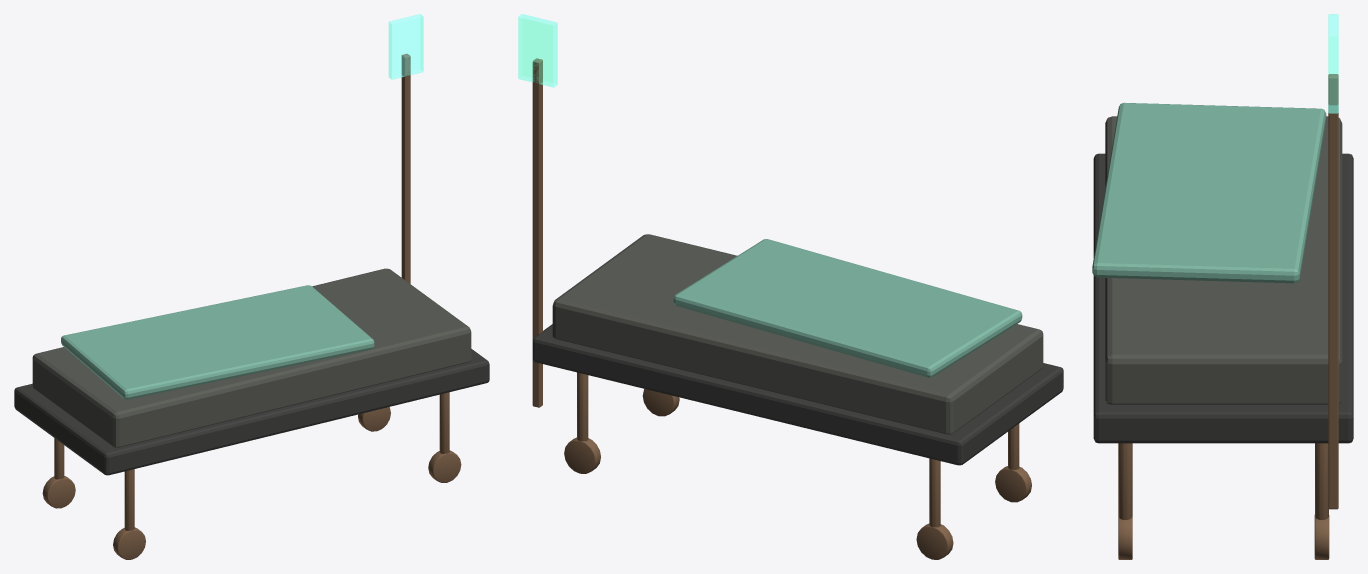
File: dz_hospital_bed_ruined_A.glb
The picture shows the model from 3 angles, left to right: view 1: azimuth 30°, elevation 25°; view 2: azimuth 150°, elevation 25°; view 3: azimuth 270°, elevation 25°; orthographic projection. The views are drawn at different scales.
Parts seen in each view (by area): view 1: dirty_mattress_sagging, torn_blanket_slump, thin_metal_bed_frame, upright_iv_pole, hanging_iv_bag, bed_wheel_-0.88_0.34, bed_wheel_-0.88_-0.34, bed_wheel_0.88_-0.34, bed_leg_-0.88_-0.34, bed_leg_0.88_-0.34, bed_wheel_0.88_0.34; view 2: dirty_mattress_sagging, torn_blanket_slump, thin_metal_bed_frame, upright_iv_pole, hanging_iv_bag, bed_wheel_-0.88_0.34, bed_wheel_-0.88_-0.34, bed_wheel_0.88_0.34, bed_leg_0.88_0.34, bed_leg_-0.88_0.34, bed_wheel_0.88_-0.34; view 3: torn_blanket_slump, dirty_mattress_sagging, thin_metal_bed_frame, upright_iv_pole, bed_leg_0.88_-0.34, hanging_iv_bag, bed_leg_0.88_0.34, bed_wheel_0.88_0.34, bed_wheel_0.88_-0.34.
Boxes of the visible parts, x1=… form: dirty_mattress_sagging: x1=32, y1=268, x2=471, y2=447; torn_blanket_slump: x1=61, y1=285, x2=374, y2=399; thin_metal_bed_frame: x1=14, y1=349, x2=489, y2=475; upright_iv_pole: x1=401, y1=54, x2=410, y2=283; hanging_iv_bag: x1=388, y1=14, x2=423, y2=79; bed_wheel_-0.88_0.34: x1=42, y1=476, x2=75, y2=508; bed_wheel_-0.88_-0.34: x1=113, y1=527, x2=145, y2=559; bed_wheel_0.88_-0.34: x1=428, y1=450, x2=461, y2=482; bed_leg_-0.88_-0.34: x1=124, y1=469, x2=134, y2=530; bed_leg_0.88_-0.34: x1=439, y1=392, x2=449, y2=453; bed_wheel_0.88_0.34: x1=358, y1=407, x2=390, y2=431; dirty_mattress_sagging: x1=552, y1=234, x2=1043, y2=434; torn_blanket_slump: x1=673, y1=239, x2=1022, y2=377; thin_metal_bed_frame: x1=532, y1=324, x2=1063, y2=465; upright_iv_pole: x1=532, y1=58, x2=542, y2=407; hanging_iv_bag: x1=518, y1=14, x2=557, y2=87; bed_wheel_-0.88_0.34: x1=916, y1=523, x2=953, y2=559; bed_wheel_-0.88_-0.34: x1=995, y1=466, x2=1031, y2=502; bed_wheel_0.88_0.34: x1=564, y1=437, x2=600, y2=473; bed_leg_0.88_0.34: x1=577, y1=372, x2=588, y2=441; bed_leg_-0.88_0.34: x1=929, y1=458, x2=940, y2=527; bed_wheel_0.88_-0.34: x1=642, y1=389, x2=679, y2=416; torn_blanket_slump: x1=1092, y1=102, x2=1326, y2=283; dirty_mattress_sagging: x1=1105, y1=116, x2=1342, y2=404; thin_metal_bed_frame: x1=1093, y1=153, x2=1353, y2=443; upright_iv_pole: x1=1328, y1=74, x2=1338, y2=509; bed_leg_0.88_-0.34: x1=1118, y1=443, x2=1132, y2=519; hanging_iv_bag: x1=1328, y1=14, x2=1338, y2=113; bed_leg_0.88_0.34: x1=1315, y1=443, x2=1328, y2=519; bed_wheel_0.88_0.34: x1=1314, y1=515, x2=1329, y2=559; bed_wheel_0.88_-0.34: x1=1118, y1=517, x2=1132, y2=559.
Bounding box in the file's own units: 2.25 × 2.13 × 0.905.
